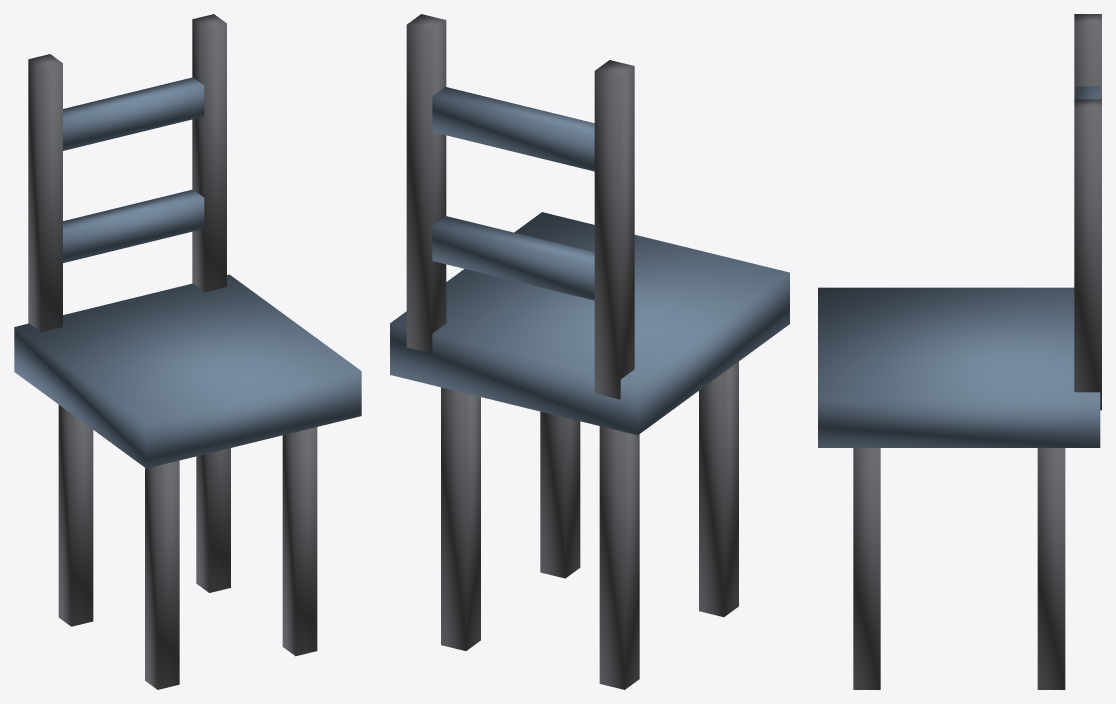
Rendered from waiting_chair__compact.glb.
The picture shows the model from 3 angles, left to right: view 1: azimuth 30°, elevation 25°; view 2: azimuth 150°, elevation 25°; view 3: azimuth 270°, elevation 25°; orthographic projection. The views are drawn at different scales.
Parts seen in each view (by area): view 1: world; view 2: world; view 3: world.
Part boxes in pixels (bbox=[...]): world: bbox=[14, 14, 361, 689]; world: bbox=[390, 14, 789, 689]; world: bbox=[818, 14, 1101, 689].
Size of the model in its own units: 0.3738 by 0.9097 by 0.3991.
